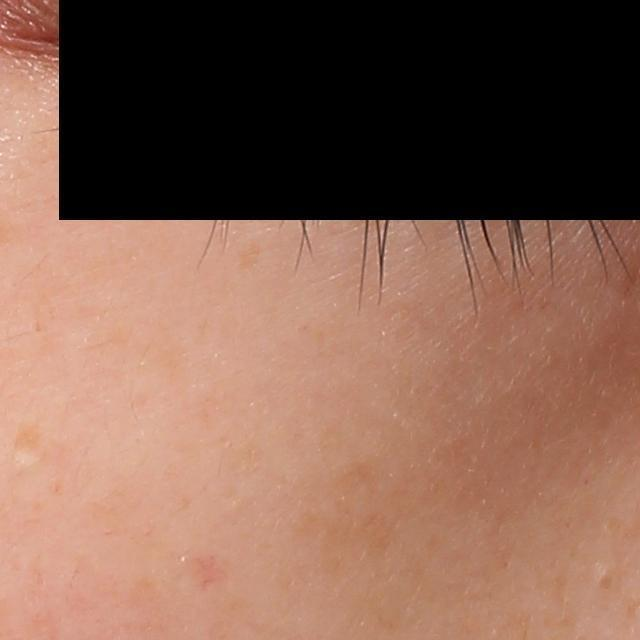melasma: (287, 463, 401, 582)
